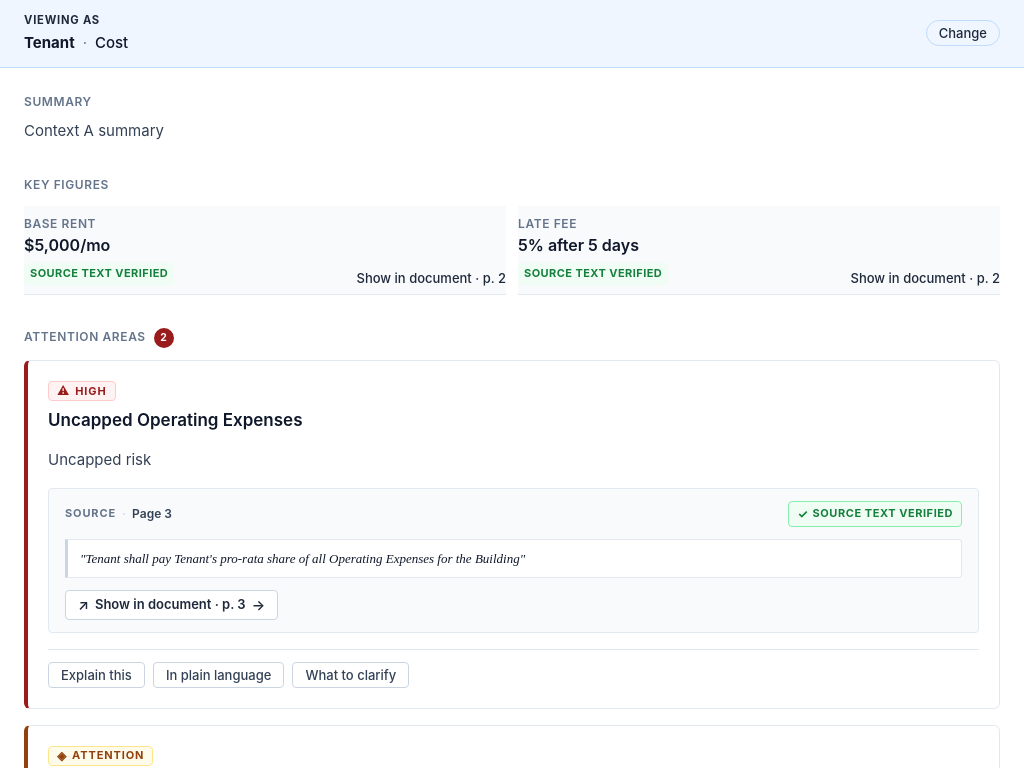
Test: Issue 6: Evidence State Transitions & Uniform Semantics › transitions active evidence cleanly: A active -> B active
// Click A (Base Rent)
Click the button with test id "show-fact-evidence-kf-base-rent".
click(431, 278)  # box top-left (356, 270), bottom-right (506, 286)
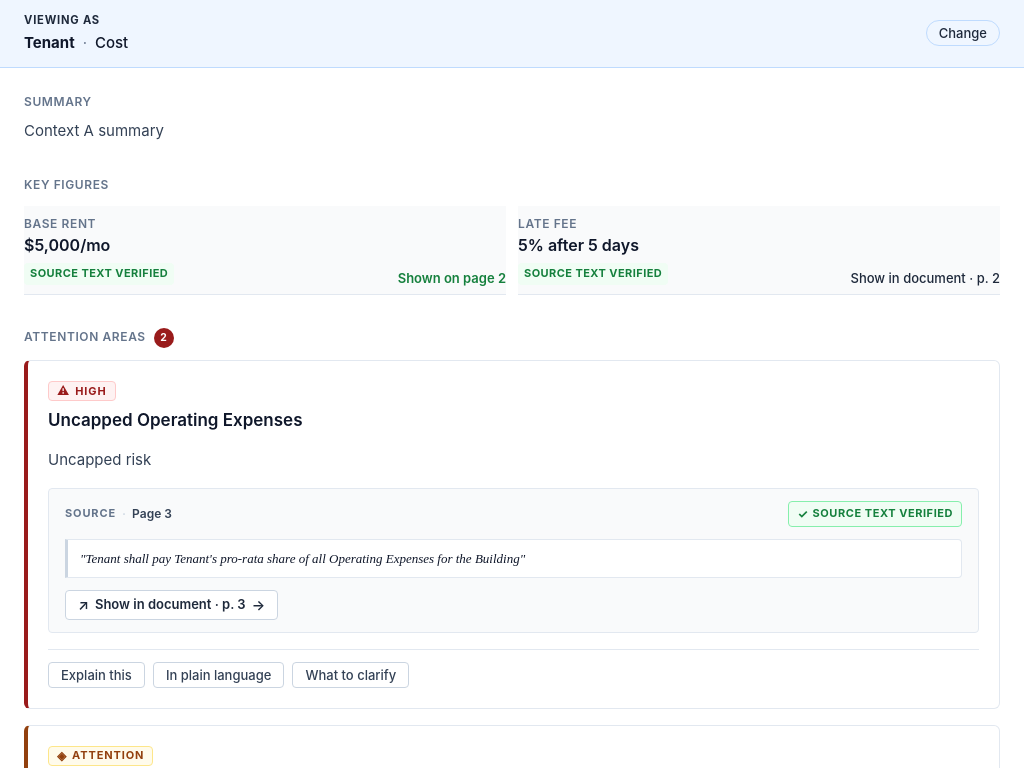
Check: the button with test id "show-fact-evidence-kf-base-rent" reads "Shown on page 2", box top-left (398, 270), bottom-right (506, 286)
// Click B (Late Fee)
Click the button with test id "show-fact-evidence-kf-late-fee".
click(925, 278)  # box top-left (850, 270), bottom-right (1000, 286)
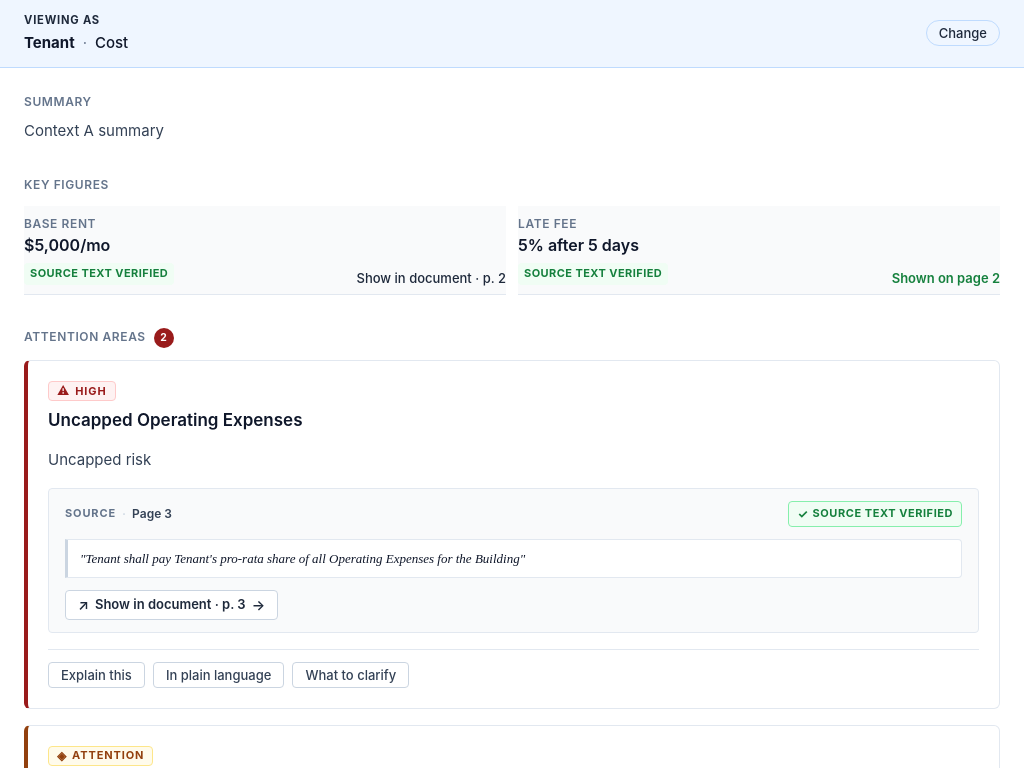
Check: the button with test id "show-fact-evidence-kf-late-fee" reads "Shown on page 2", box top-left (892, 270), bottom-right (1000, 286)
Check: the button with test id "show-fact-evidence-kf-base-rent" reads "Show in document · p. 2", box top-left (356, 270), bottom-right (506, 286)
